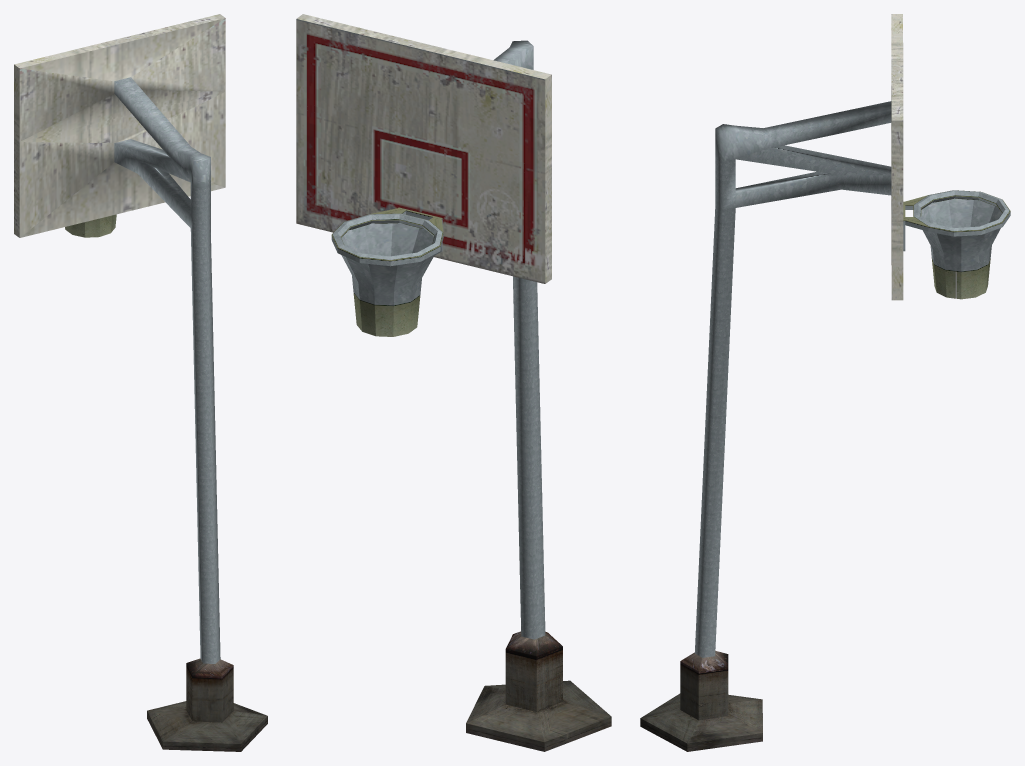
Rendered from BaseBallCourt_Pole.fbx.
3 renders of one model, left to right at view 1: azimuth 30°, elevation 25°; view 2: azimuth 150°, elevation 25°; view 3: azimuth 270°, elevation 25°, orthographic. The views are drawn at different scales.
Visible parts, largest first — view 1: BaseBallCourt_Pole; view 2: BaseBallCourt_Pole; view 3: BaseBallCourt_Pole.
Part boxes in pixels (x1,y1,x2,y2): BaseBallCourt_Pole: (14, 14, 267, 751); BaseBallCourt_Pole: (296, 14, 611, 751); BaseBallCourt_Pole: (640, 14, 1010, 751).
Size of the model in its own units: 129 by 372 by 189.
